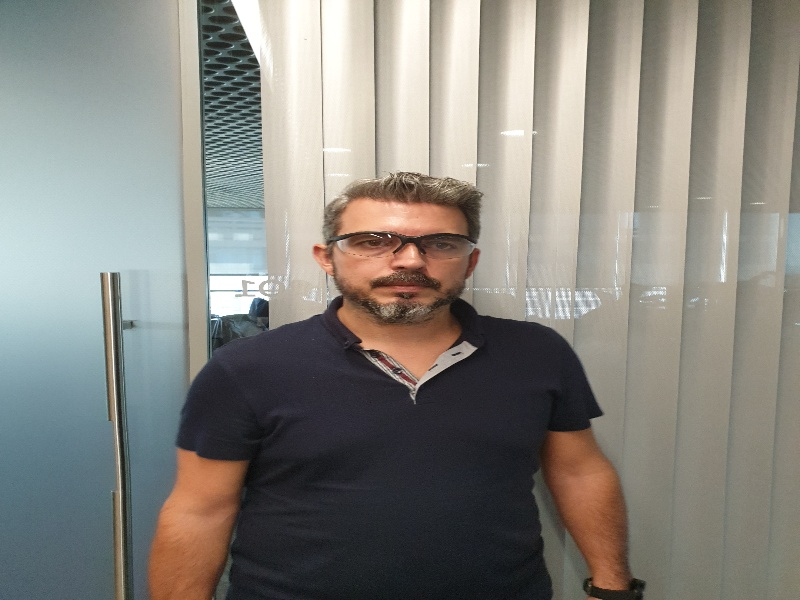Gozluk: (325, 233, 477, 257)
